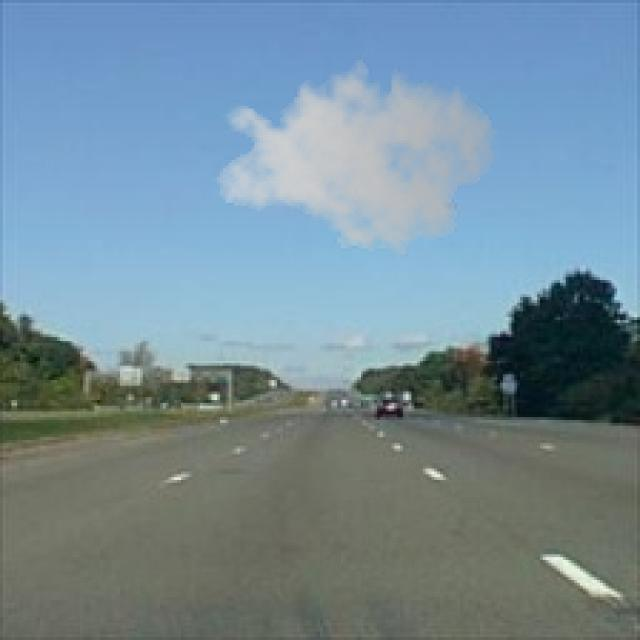Smoke: (214, 48, 497, 263)
